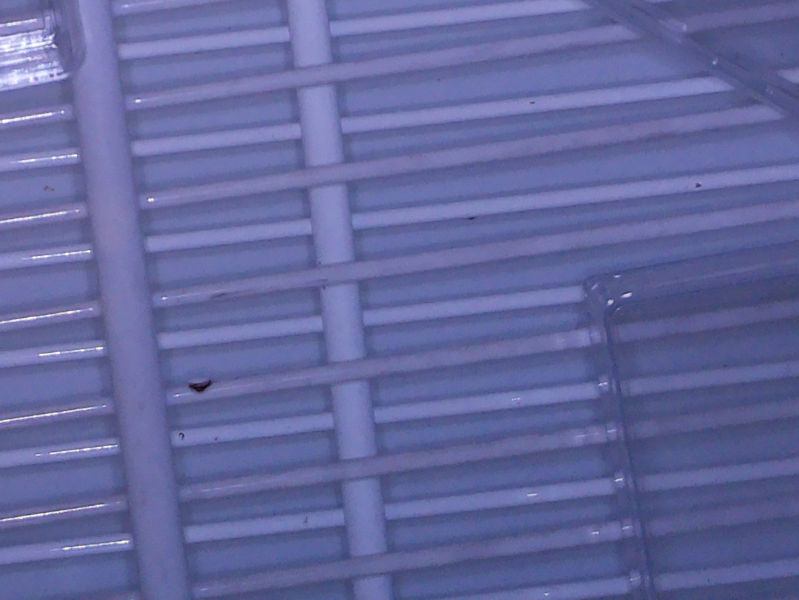plate: (584, 240, 799, 600), (583, 1, 799, 123), (1, 1, 88, 97)
